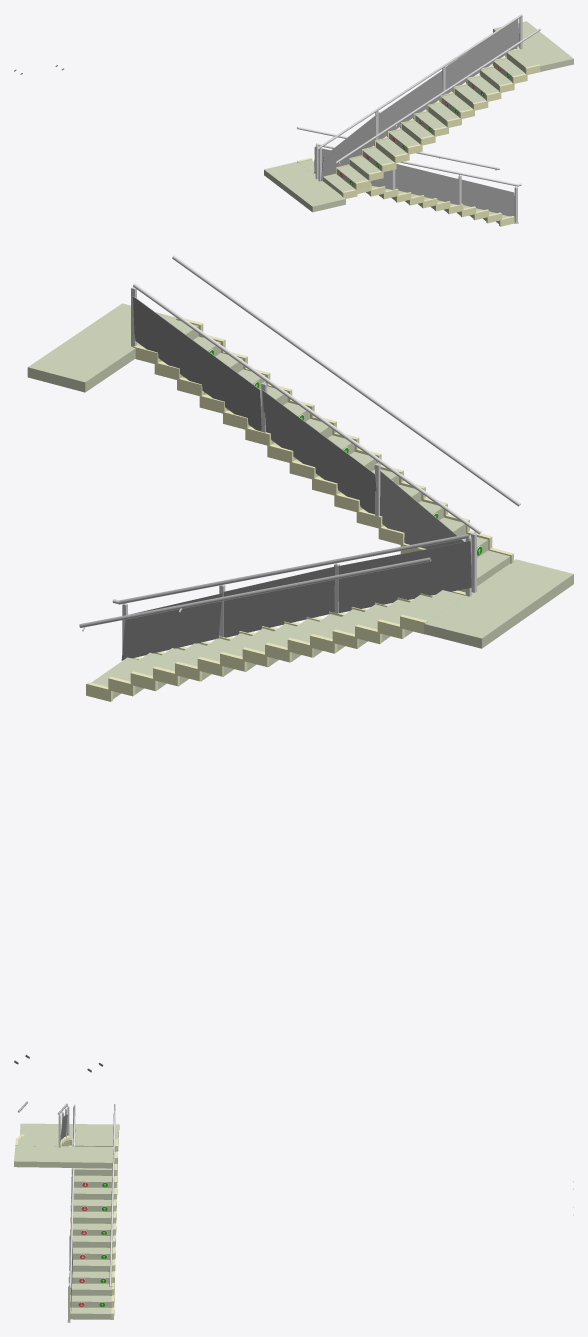
File: lantai9.fbx
The picture shows the model from 3 angles, top to bottom: view 1: azimuth 30°, elevation 25°; view 2: azimuth 150°, elevation 25°; view 3: azimuth 270°, elevation 25°; orthographic projection. The views are drawn at different scales.
Visible parts, largest first — view 1: Cube.190, Cube.166, G-__555582.005, G-__555582.001, G-__555582.004, Cube.221, G-__555582.002, G-__555582.003, Cylinder.136, Cylinder.135, Cube.083, Cylinder.091 (+2 smaller); view 2: Cube.083, Cube.166, G-__555582, G-__555582.005, Cube.221, G-__555582.001, G-__555582.004, Cube.190, G-__555582.002, G-__555582.003, Cylinder.135, Cylinder.136 (+2 smaller); view 3: Cube.083, Cube.221, Cube.166, Cylinder.090, Cube.190, Cylinder.091.
Part boxes in pixels (x1=…): Cube.190: x1=323, y1=50, x2=538, y2=195; Cube.166: x1=264, y1=162, x2=345, y2=212; G-__555582.005: x1=445, y1=19, x2=519, y2=93; G-__555582.001: x1=395, y1=164, x2=458, y2=204; G-__555582.004: x1=378, y1=70, x2=442, y2=139; Cube.221: x1=493, y1=21, x2=573, y2=71; G-__555582.002: x1=457, y1=178, x2=514, y2=216; G-__555582.003: x1=321, y1=112, x2=379, y2=181; Cylinder.136: x1=317, y1=14, x2=522, y2=149; Cylinder.135: x1=336, y1=28, x2=540, y2=163; Cube.083: x1=298, y1=160, x2=509, y2=223; Cylinder.091: x1=315, y1=143, x2=518, y2=186; Cube.083: x1=91, y1=590, x2=464, y2=698; Cube.166: x1=424, y1=559, x2=573, y2=648; G-__555582: x1=338, y1=541, x2=472, y2=612; G-__555582.005: x1=133, y1=296, x2=261, y2=431; Cube.221: x1=27, y1=303, x2=176, y2=392; G-__555582.001: x1=223, y1=566, x2=334, y2=637; G-__555582.004: x1=262, y1=390, x2=376, y2=514; Cube.190: x1=138, y1=320, x2=510, y2=586; G-__555582.002: x1=121, y1=593, x2=222, y2=660; G-__555582.003: x1=374, y1=466, x2=464, y2=548; Cylinder.135: x1=172, y1=255, x2=520, y2=506; Cylinder.136: x1=133, y1=283, x2=481, y2=534; Cube.083: x1=70, y1=1139, x2=115, y2=1319; Cube.221: x1=14, y1=1146, x2=113, y2=1168; Cube.166: x1=20, y1=1123, x2=119, y2=1145; Cylinder.090: x1=109, y1=1104, x2=115, y2=1287; Cube.190: x1=18, y1=1135, x2=58, y2=1146; Cylinder.091: x1=69, y1=1104, x2=75, y2=1287.
Bounding box in the file's own units: 2214 × 1632 × 3942.
